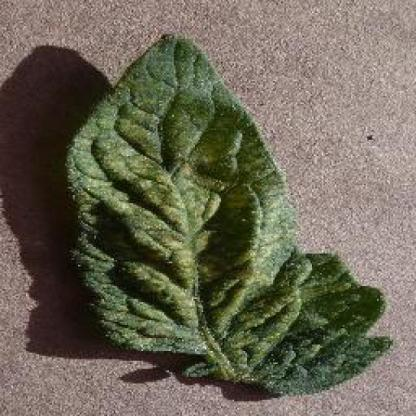Tomato_Spider_Mites: (68, 35, 392, 389)
